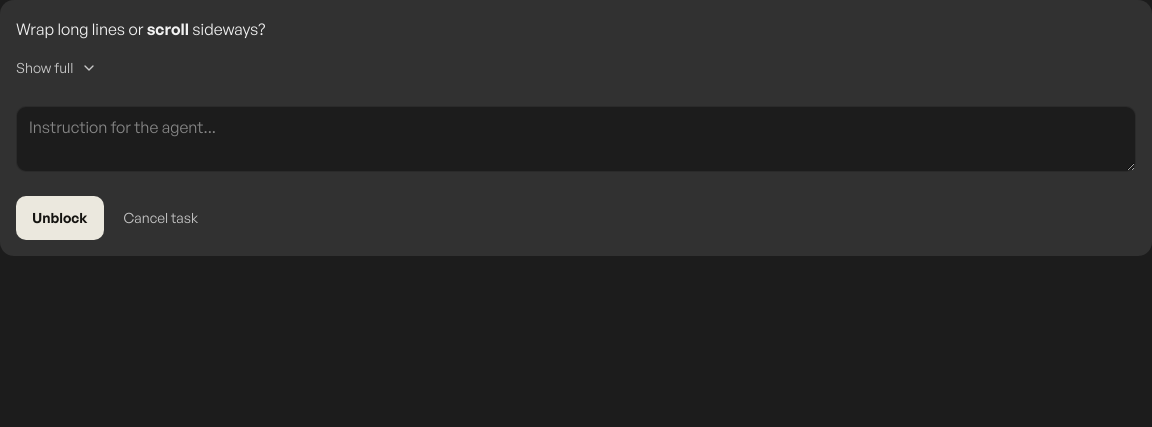
Test case: TaskApprovalCard › the report and the blocker kind show only after Show full, rendered
Step 1. Click the button "Show full" → (57, 68), box 4,46 -> 109,90
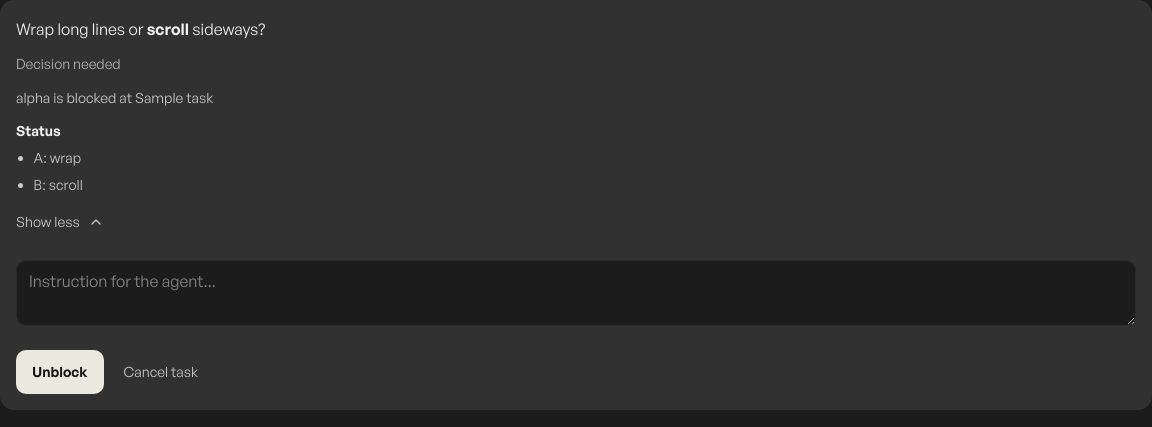
Check: the element with test id "approval-details" does not show "##", box 16,55 -> 213,193
Check: the text "Decision needed" is shown, box 16,55 -> 121,72
Check: the heading "Status" is shown, box 16,122 -> 61,140
